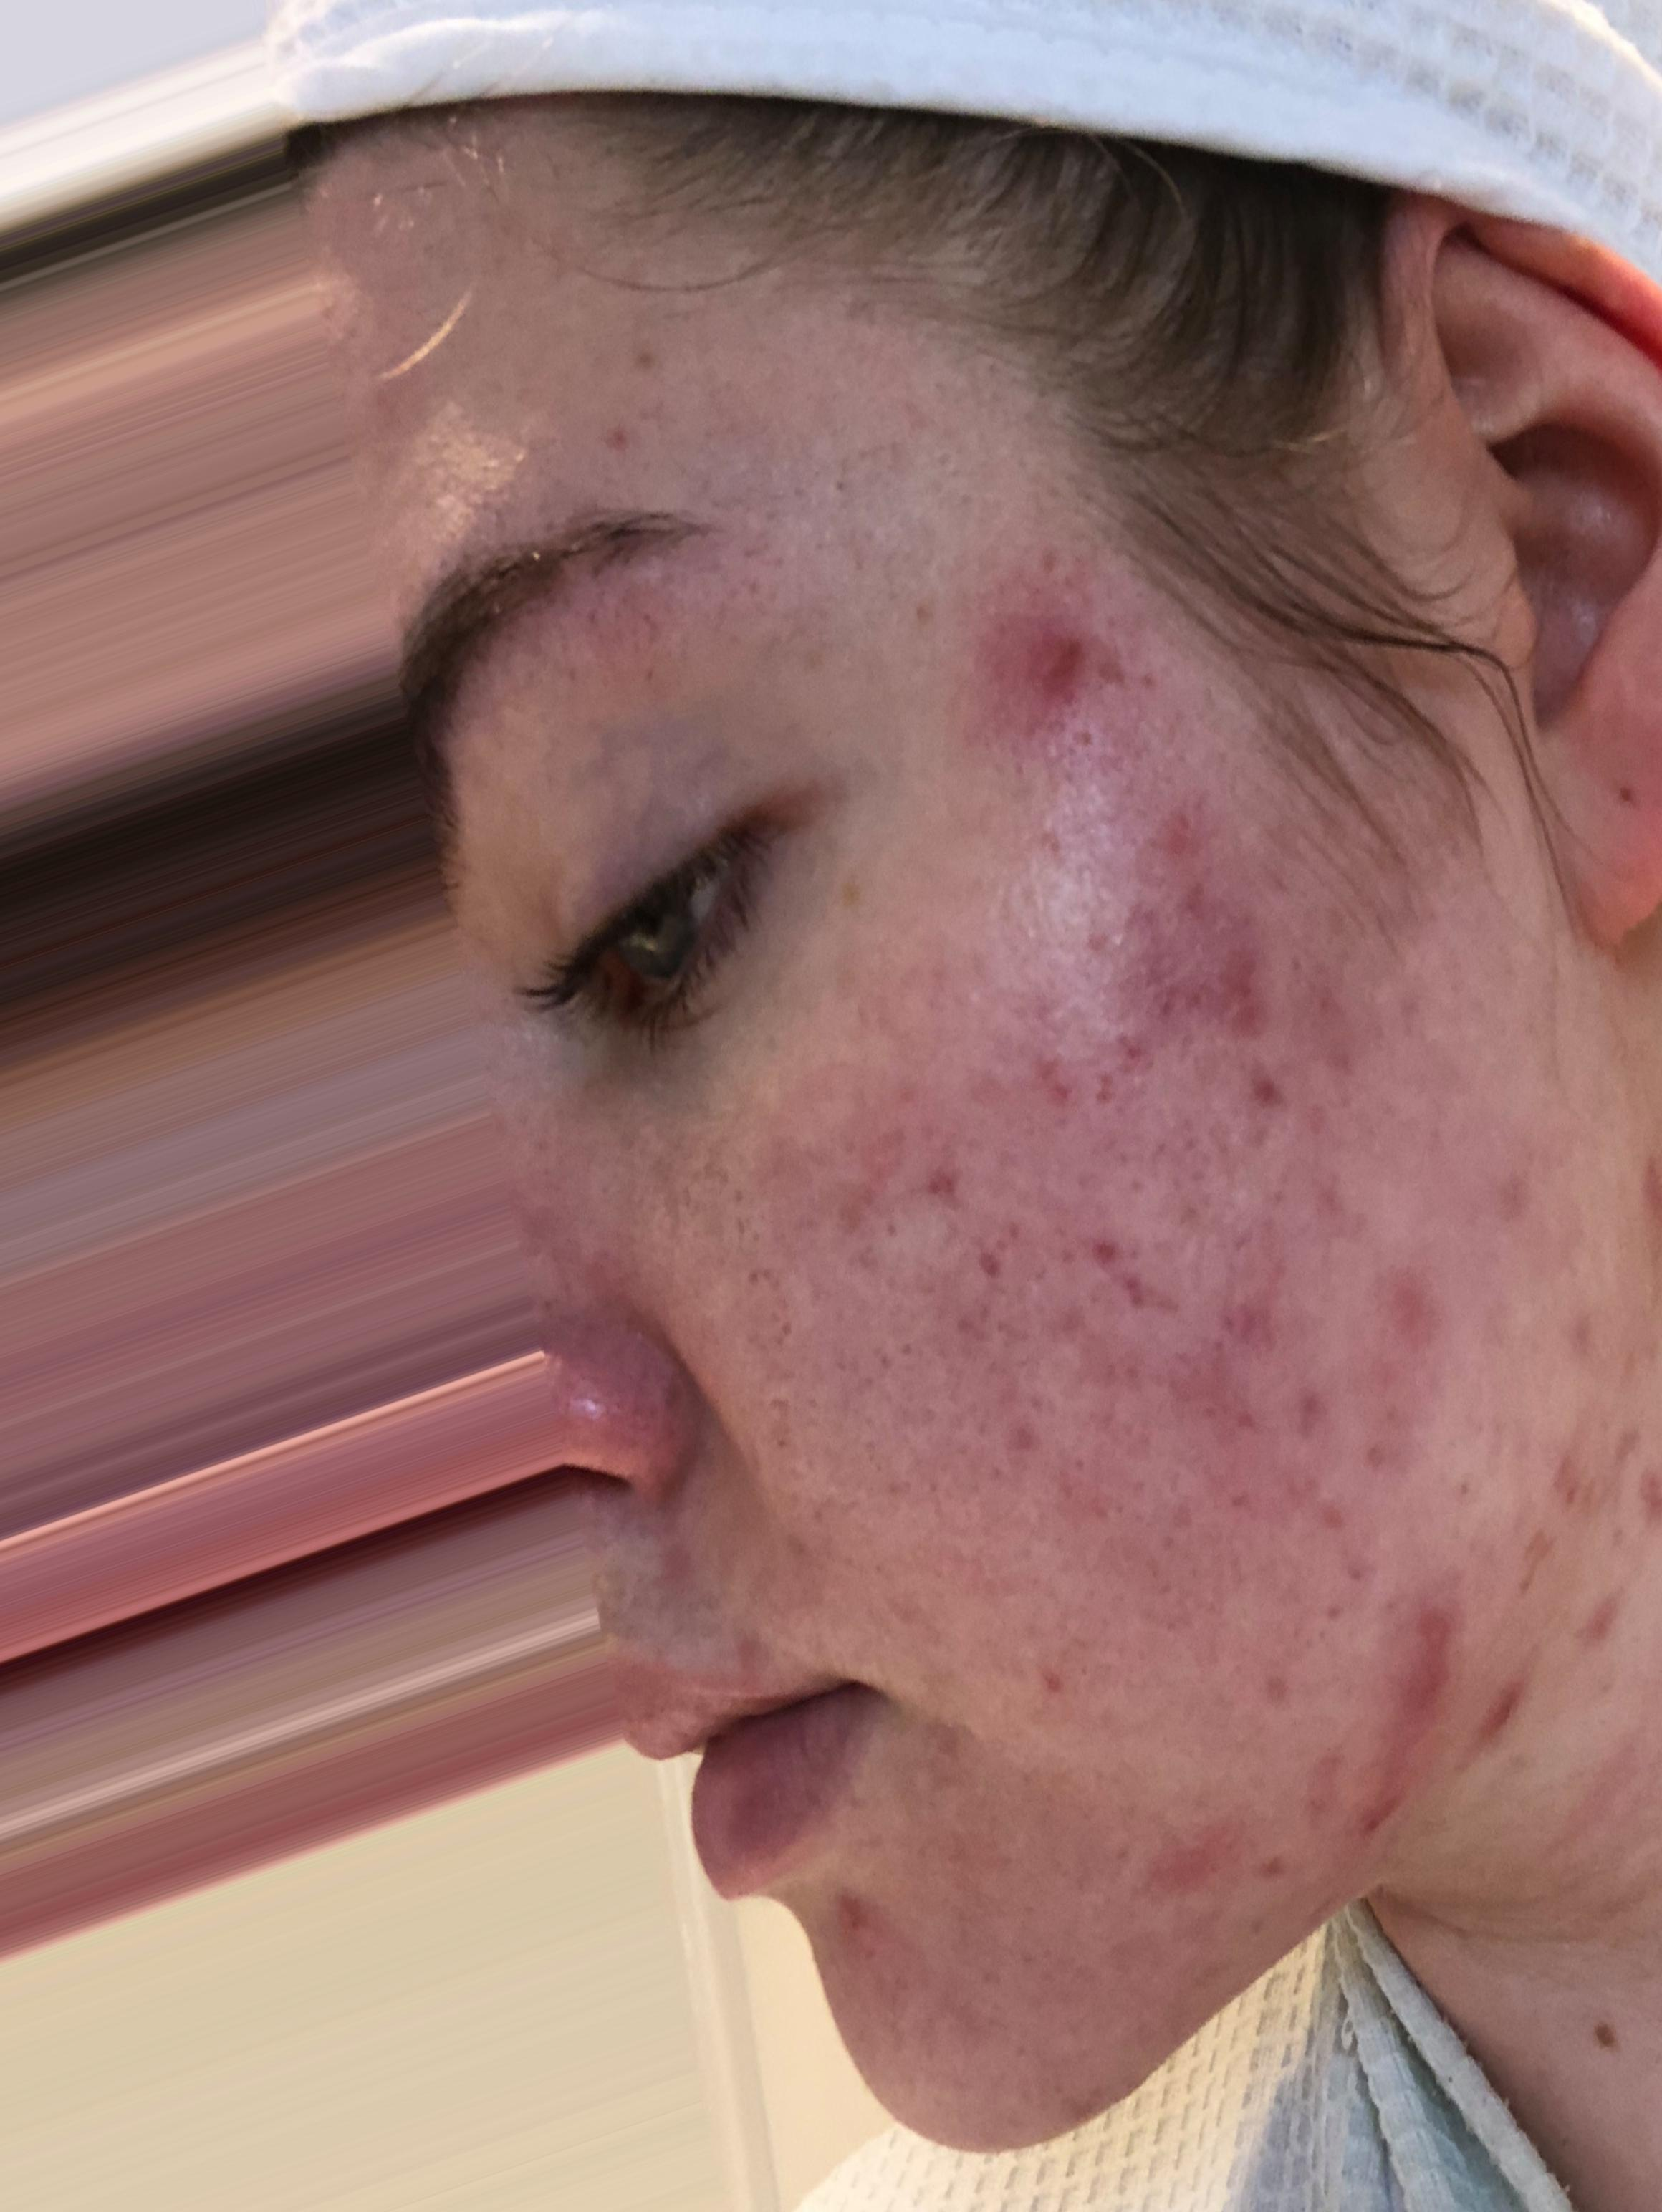Acne: (1077, 812, 1339, 1081), (1391, 1564, 1582, 1821), (927, 526, 1166, 723), (1306, 1184, 1472, 1430)
